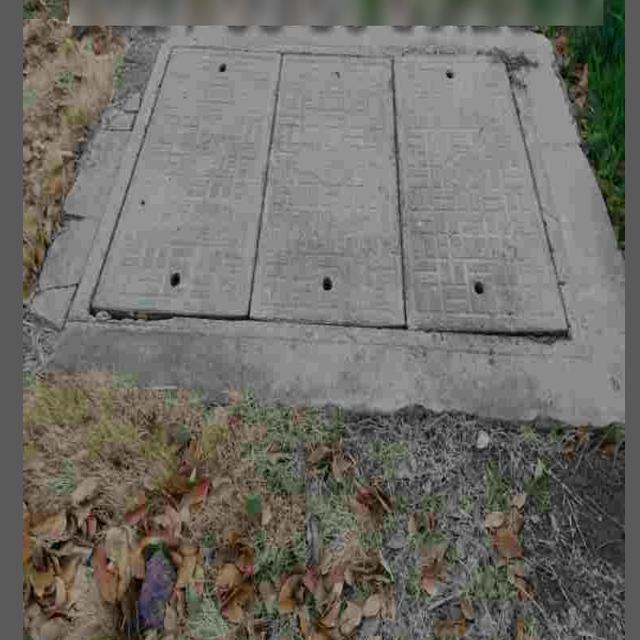good: (61, 31, 586, 354)
